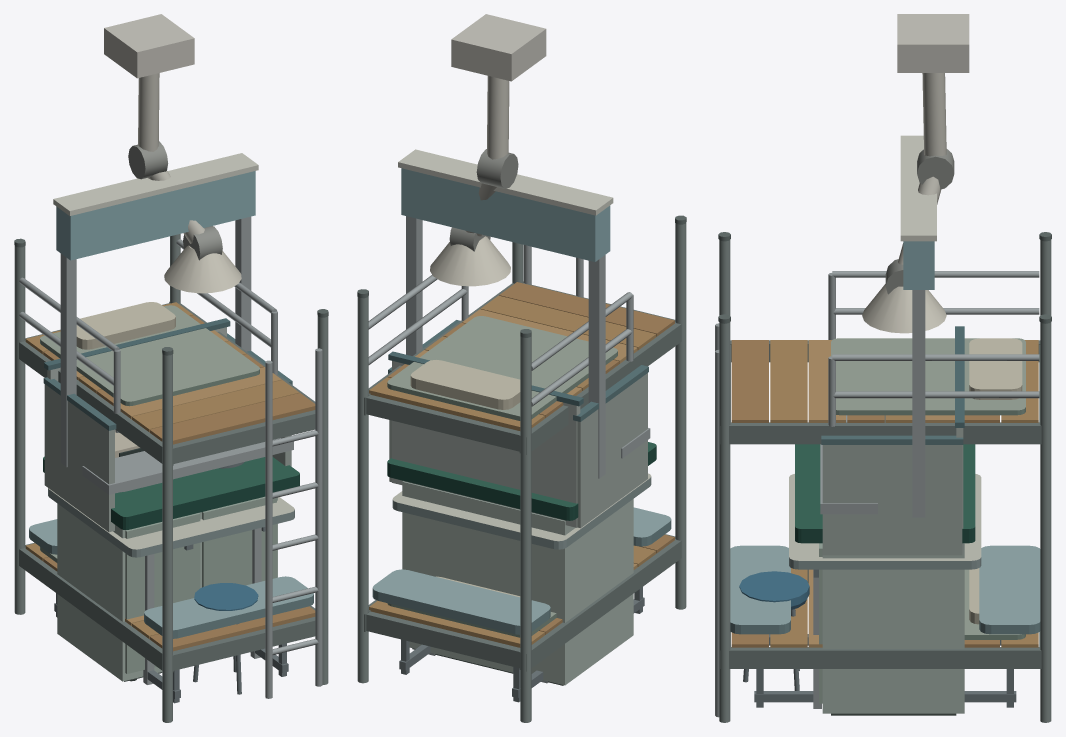
File: furnishings.glb
The picture shows the model from 3 angles, left to right: view 1: azimuth 30°, elevation 25°; view 2: azimuth 150°, elevation 25°; view 3: azimuth 270°, elevation 25°; orthographic projection. The views are drawn at different scales.
Visible parts, largest first — view 1: Bunk, PhysicsBench, ServingBay, CanteenTable, Extractor, Workstation; view 2: Bunk, PhysicsBench, ServingBay, Workstation, CanteenTable, Extractor; view 3: Bunk, PhysicsBench, Workstation, CanteenTable, Extractor, ServingBay.
Boxes of the visible parts, bbox=[...] form: Bunk: bbox=[14, 234, 328, 722]; PhysicsBench: bbox=[43, 430, 299, 694]; ServingBay: bbox=[53, 153, 293, 494]; CanteenTable: bbox=[29, 488, 313, 703]; Extractor: bbox=[104, 14, 241, 293]; Workstation: bbox=[43, 318, 292, 532]; Bunk: bbox=[357, 215, 686, 722]; PhysicsBench: bbox=[387, 442, 656, 685]; ServingBay: bbox=[398, 149, 650, 478]; Workstation: bbox=[388, 320, 648, 528]; CanteenTable: bbox=[372, 473, 671, 702]; Extractor: bbox=[430, 14, 546, 286]; Bunk: bbox=[715, 232, 1051, 722]; PhysicsBench: bbox=[739, 444, 975, 715]; Workstation: bbox=[821, 326, 964, 555]; CanteenTable: bbox=[730, 474, 1040, 708]; Extractor: bbox=[862, 14, 969, 333]; ServingBay: bbox=[820, 135, 936, 517].
Size of the model in its own units: 0.985 by 2.99 by 1.4.
